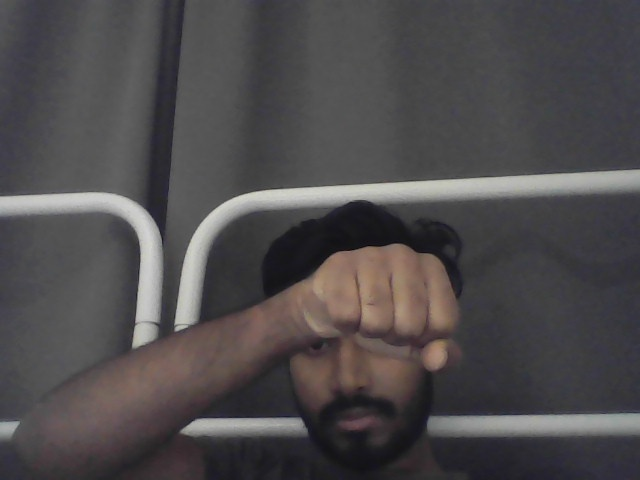yes: (311, 243, 464, 375)
